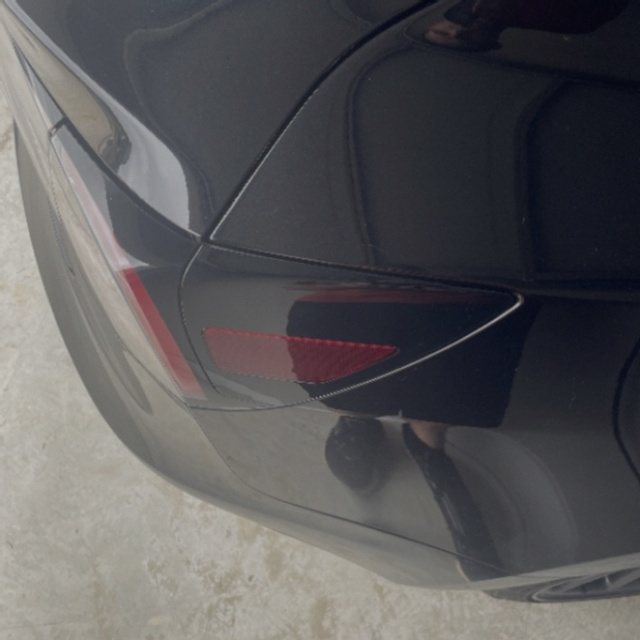reflector: (200, 327, 397, 383)
